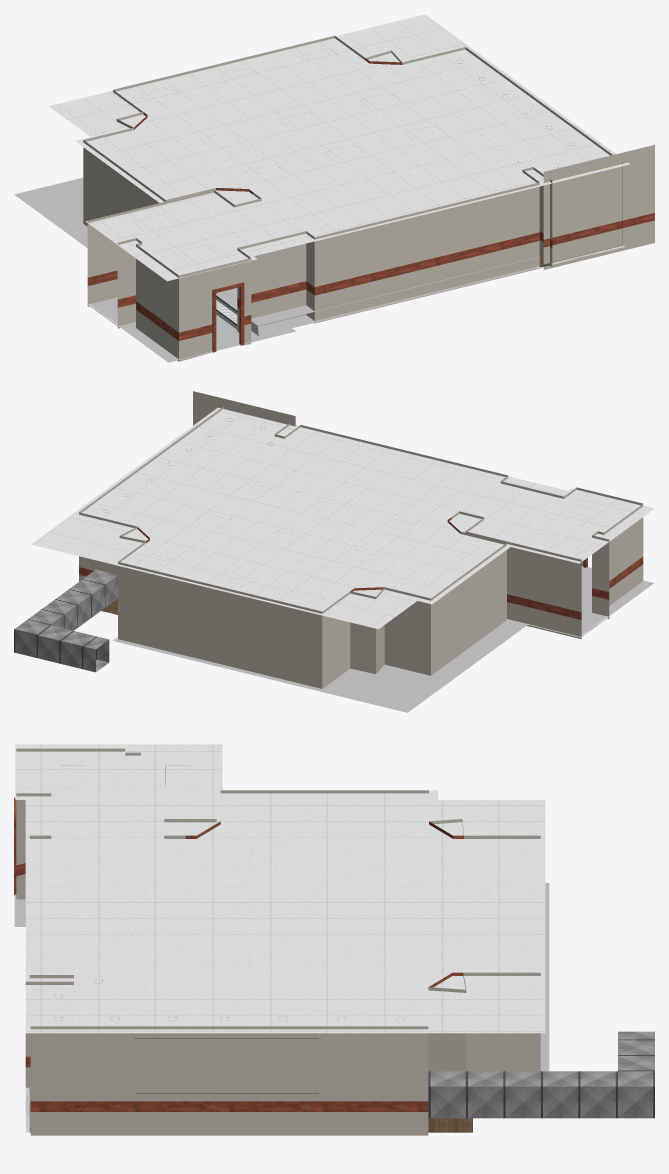
The model's file is Stage.fbx.
The picture shows the model from 3 angles, top to bottom: view 1: azimuth 30°, elevation 25°; view 2: azimuth 150°, elevation 25°; view 3: azimuth 270°, elevation 25°; orthographic projection. The views are drawn at different scales.
Visible parts, largest first — view 1: NonBaked, Cube; view 2: NonBaked; view 3: NonBaked.
Part boxes in pixels (<box>): NonBaked: <box>14,14,654,362</box>; Cube: <box>212,282,244,352</box>; NonBaked: <box>14,391,654,712</box>; NonBaked: <box>14,744,654,1135</box>.
Bounding box in the file's own units: 1484 × 282 × 1315.
